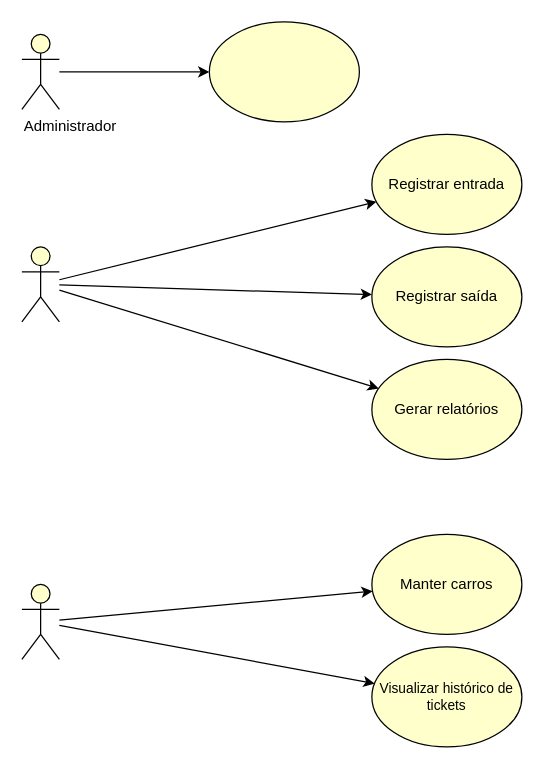
Image size: 544x769. Some labels were removed from this diagram. Here are the shapes that lost their labels. From the top down, the centre of each, then its label:
the point at 283,71: Manter estacionamentos
the point at 40,284: Operador do sistema
the point at 40,621: Usuário
